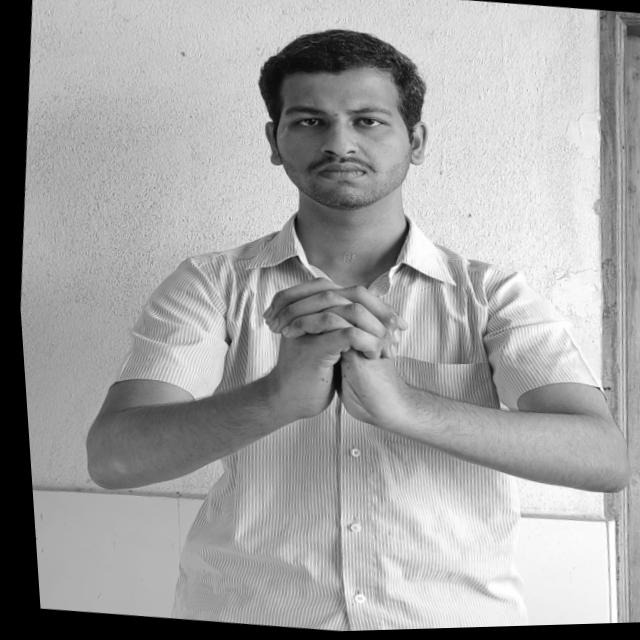Sorry: (245, 267, 413, 401)
